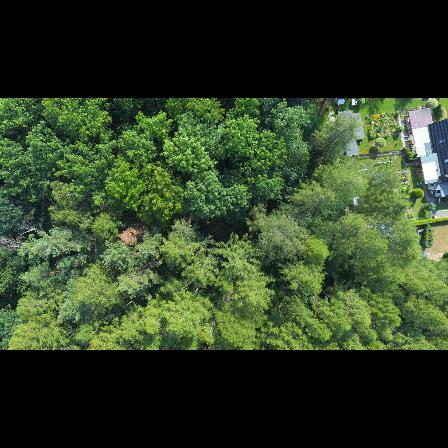Dead: (15, 217, 48, 238), (0, 233, 29, 255)
